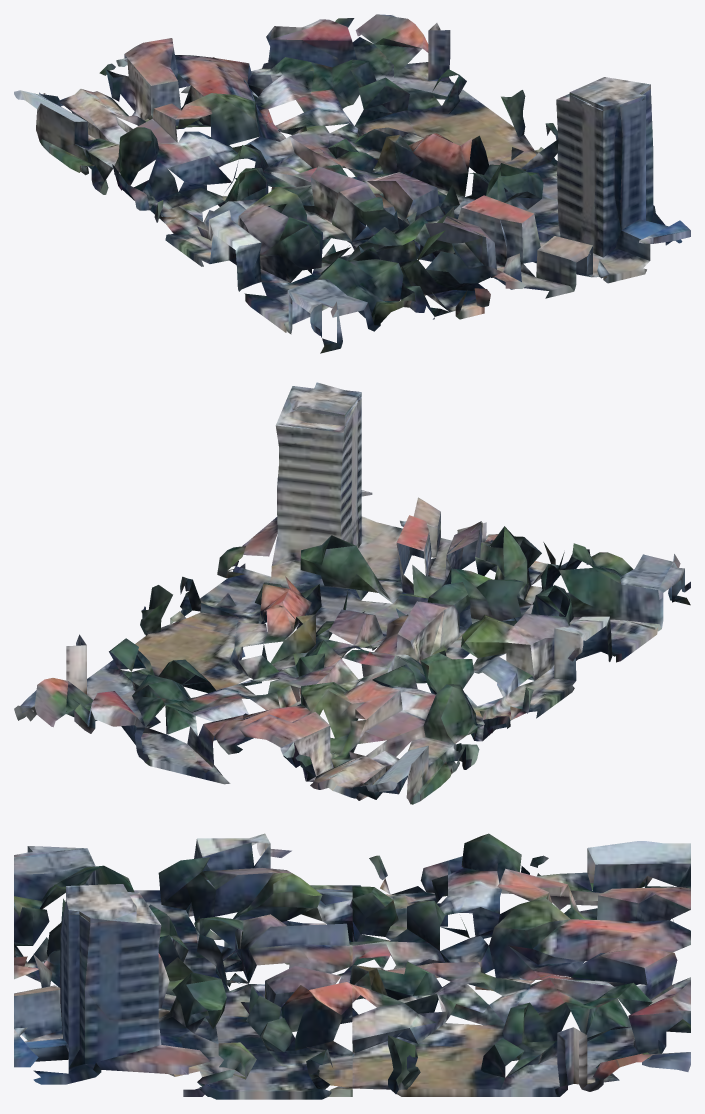
3 views of the same model, one above another, from view 1: azimuth 30°, elevation 25°; view 2: azimuth 150°, elevation 25°; view 3: azimuth 270°, elevation 25° (orthographic). The views are drawn at different scales.
Visible parts, largest first — view 1: 304362727043616055_0; view 2: 304362727043616055_0; view 3: 304362727043616055_0.
Boxes of the visible parts, bbox=[...] form: 304362727043616055_0: bbox=[14, 14, 690, 353]; 304362727043616055_0: bbox=[14, 382, 690, 804]; 304362727043616055_0: bbox=[14, 833, 690, 1099].
Size of the model in its own units: 113 by 44.99 by 153.
1 material, 1 textured.
